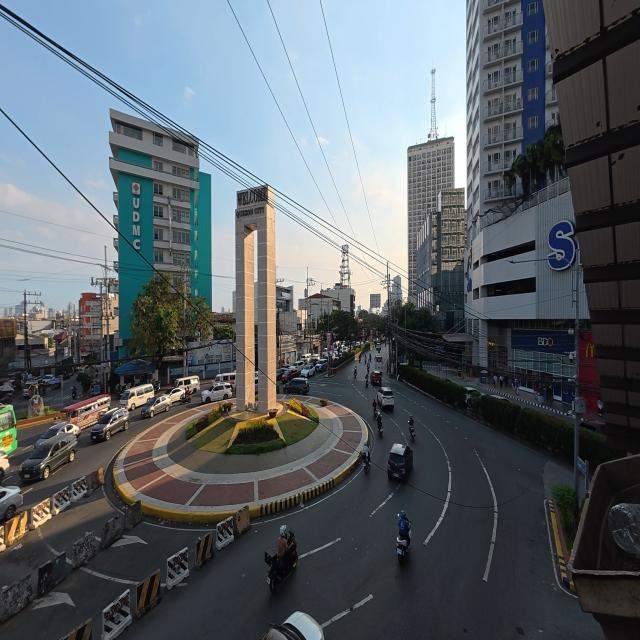Jeepneys: (61, 395, 110, 428)
bus: (0, 405, 17, 455)
car: (19, 434, 77, 480), (261, 612, 324, 639), (90, 408, 129, 441), (34, 423, 80, 448), (388, 444, 413, 480), (0, 486, 23, 520), (141, 395, 171, 417), (201, 383, 230, 403), (284, 378, 309, 394), (377, 387, 394, 409), (580, 420, 605, 434), (281, 367, 299, 384), (465, 387, 483, 404), (0, 450, 9, 484), (167, 388, 184, 403), (23, 381, 37, 397), (276, 367, 289, 381), (300, 365, 315, 377), (315, 358, 327, 372), (490, 395, 510, 403), (293, 360, 306, 372), (371, 370, 381, 385), (42, 375, 54, 384), (309, 355, 319, 365), (62, 371, 72, 380)
motorcycle: (265, 530, 298, 593), (397, 536, 409, 563), (361, 451, 370, 473), (377, 412, 383, 437), (180, 393, 190, 404), (409, 422, 415, 440), (153, 380, 160, 392), (72, 389, 76, 399), (374, 406, 377, 419), (354, 368, 357, 378), (366, 378, 368, 387)
vans: (120, 384, 154, 410), (175, 376, 199, 394), (215, 372, 236, 391), (303, 354, 312, 362)
